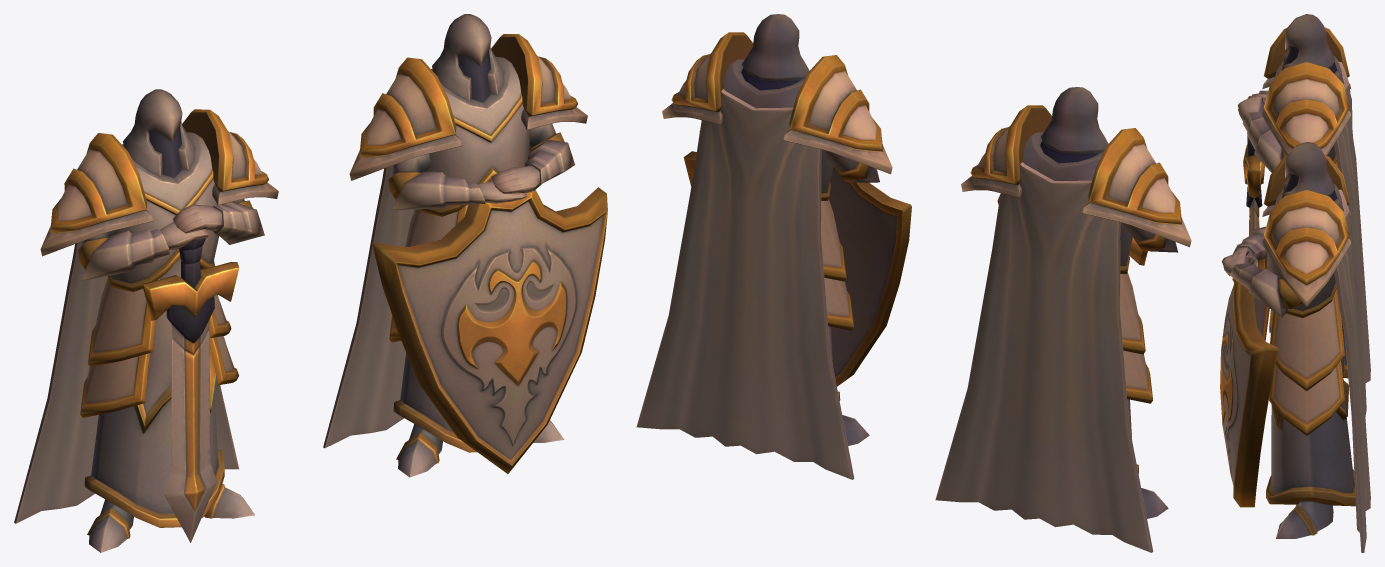
Rendered from knight_statue.glb.
3 renders of one model, left to right at view 1: azimuth 30°, elevation 25°; view 2: azimuth 150°, elevation 25°; view 3: azimuth 270°, elevation 25°, orthographic. The views are drawn at different scales.
Visible parts, largest first — view 1: Knight_Statue_Sword, Knight_Statue_Shield, Shield, Sword; view 2: Knight_Statue_Shield, Knight_Statue_Sword, Shield; view 3: Knight_Statue_Shield, Knight_Statue_Sword, Shield, Sword.
Part boxes in pixels (x1,y1,x2,y2): Knight_Statue_Sword: [14, 89, 278, 552]; Knight_Statue_Shield: [323, 14, 587, 477]; Shield: [372, 187, 607, 473]; Sword: [142, 237, 239, 542]; Knight_Statue_Shield: [636, 14, 892, 479]; Knight_Statue_Sword: [935, 87, 1191, 552]; Shield: [683, 151, 911, 386]; Knight_Statue_Shield: [1221, 142, 1370, 552]; Knight_Statue_Sword: [1237, 14, 1370, 416]; Shield: [1220, 259, 1278, 507]; Sword: [1243, 132, 1264, 235].
Size of the model in its own units: 7.08 by 5.31 by 1.99.
1 material, 1 textured.
